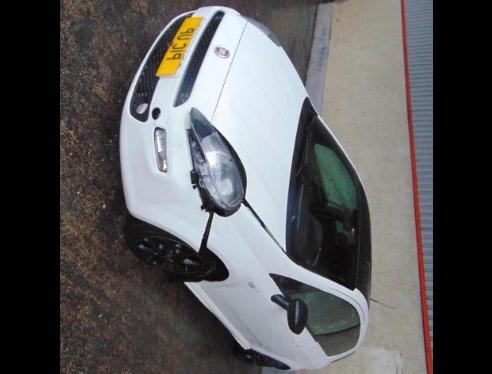Broken part: (209, 118, 286, 255), (185, 107, 244, 218), (187, 157, 241, 219), (195, 209, 215, 252)
Cracked: (284, 292, 359, 335)
Missing part: (150, 106, 160, 120)
